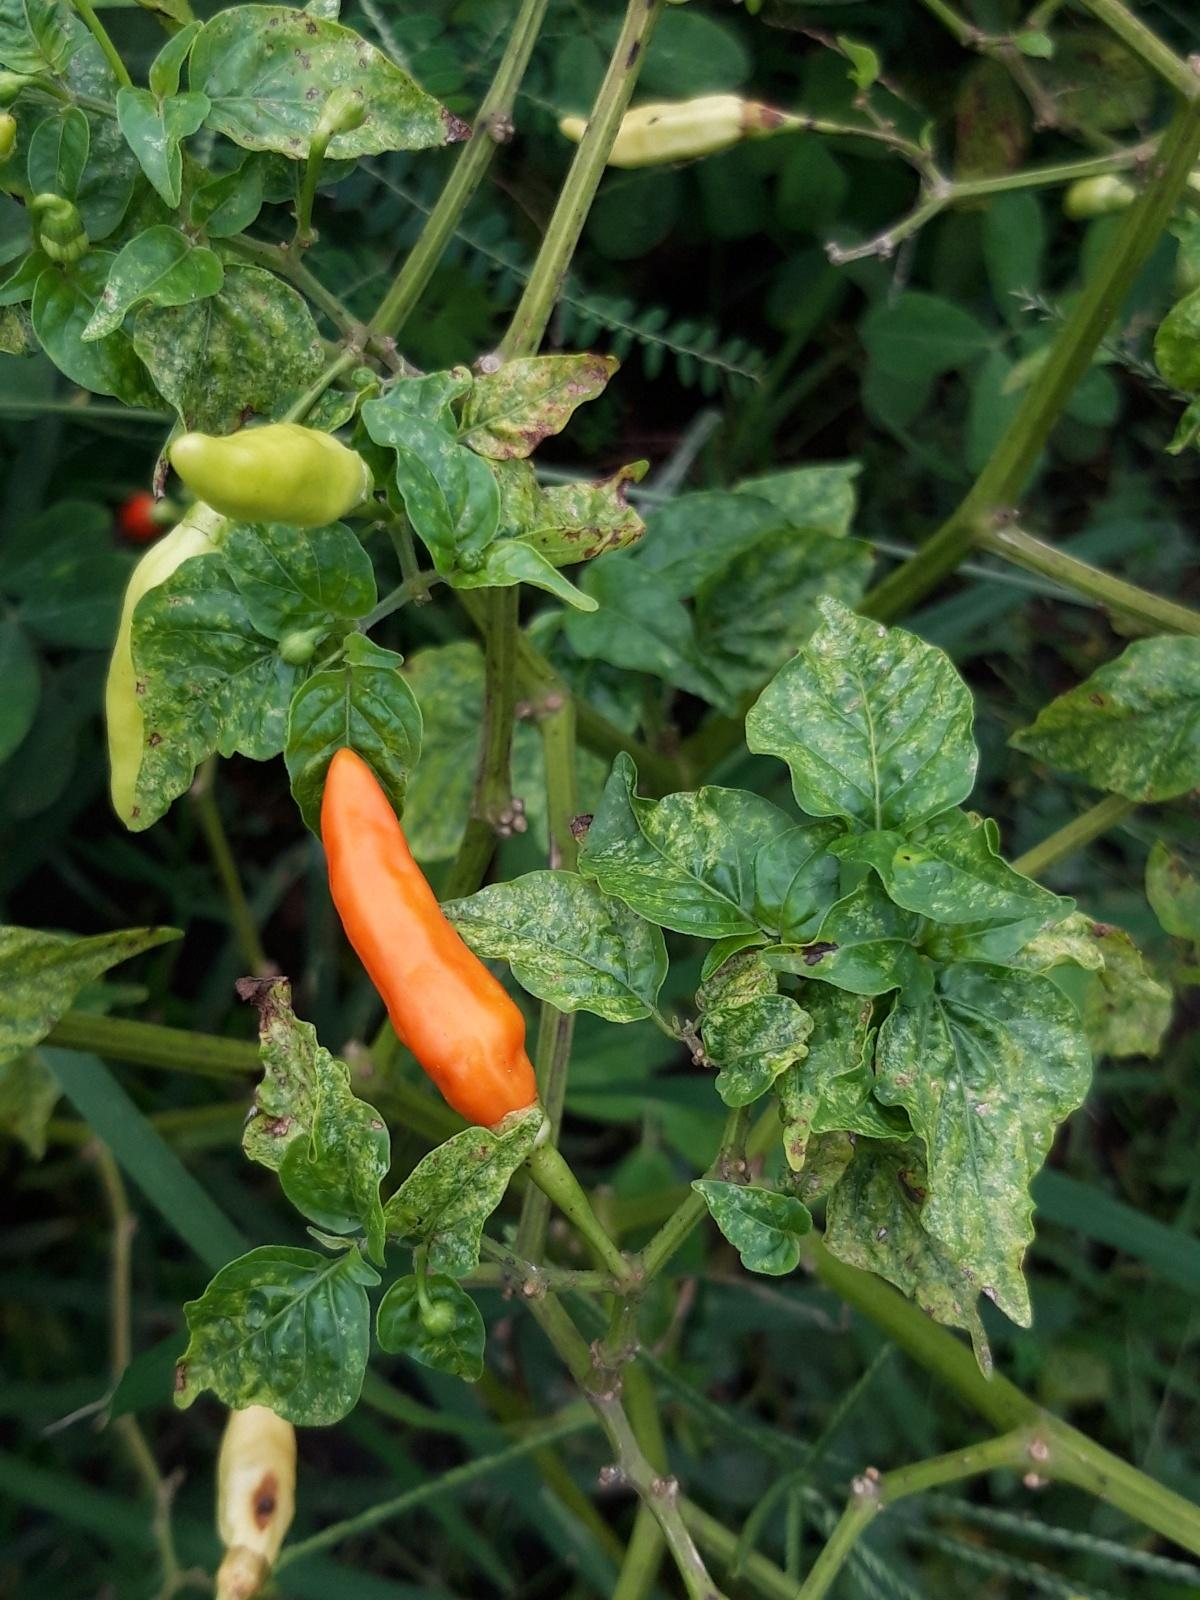cabai_normal: (319, 747, 536, 1125), (169, 425, 372, 528), (556, 93, 760, 169)
